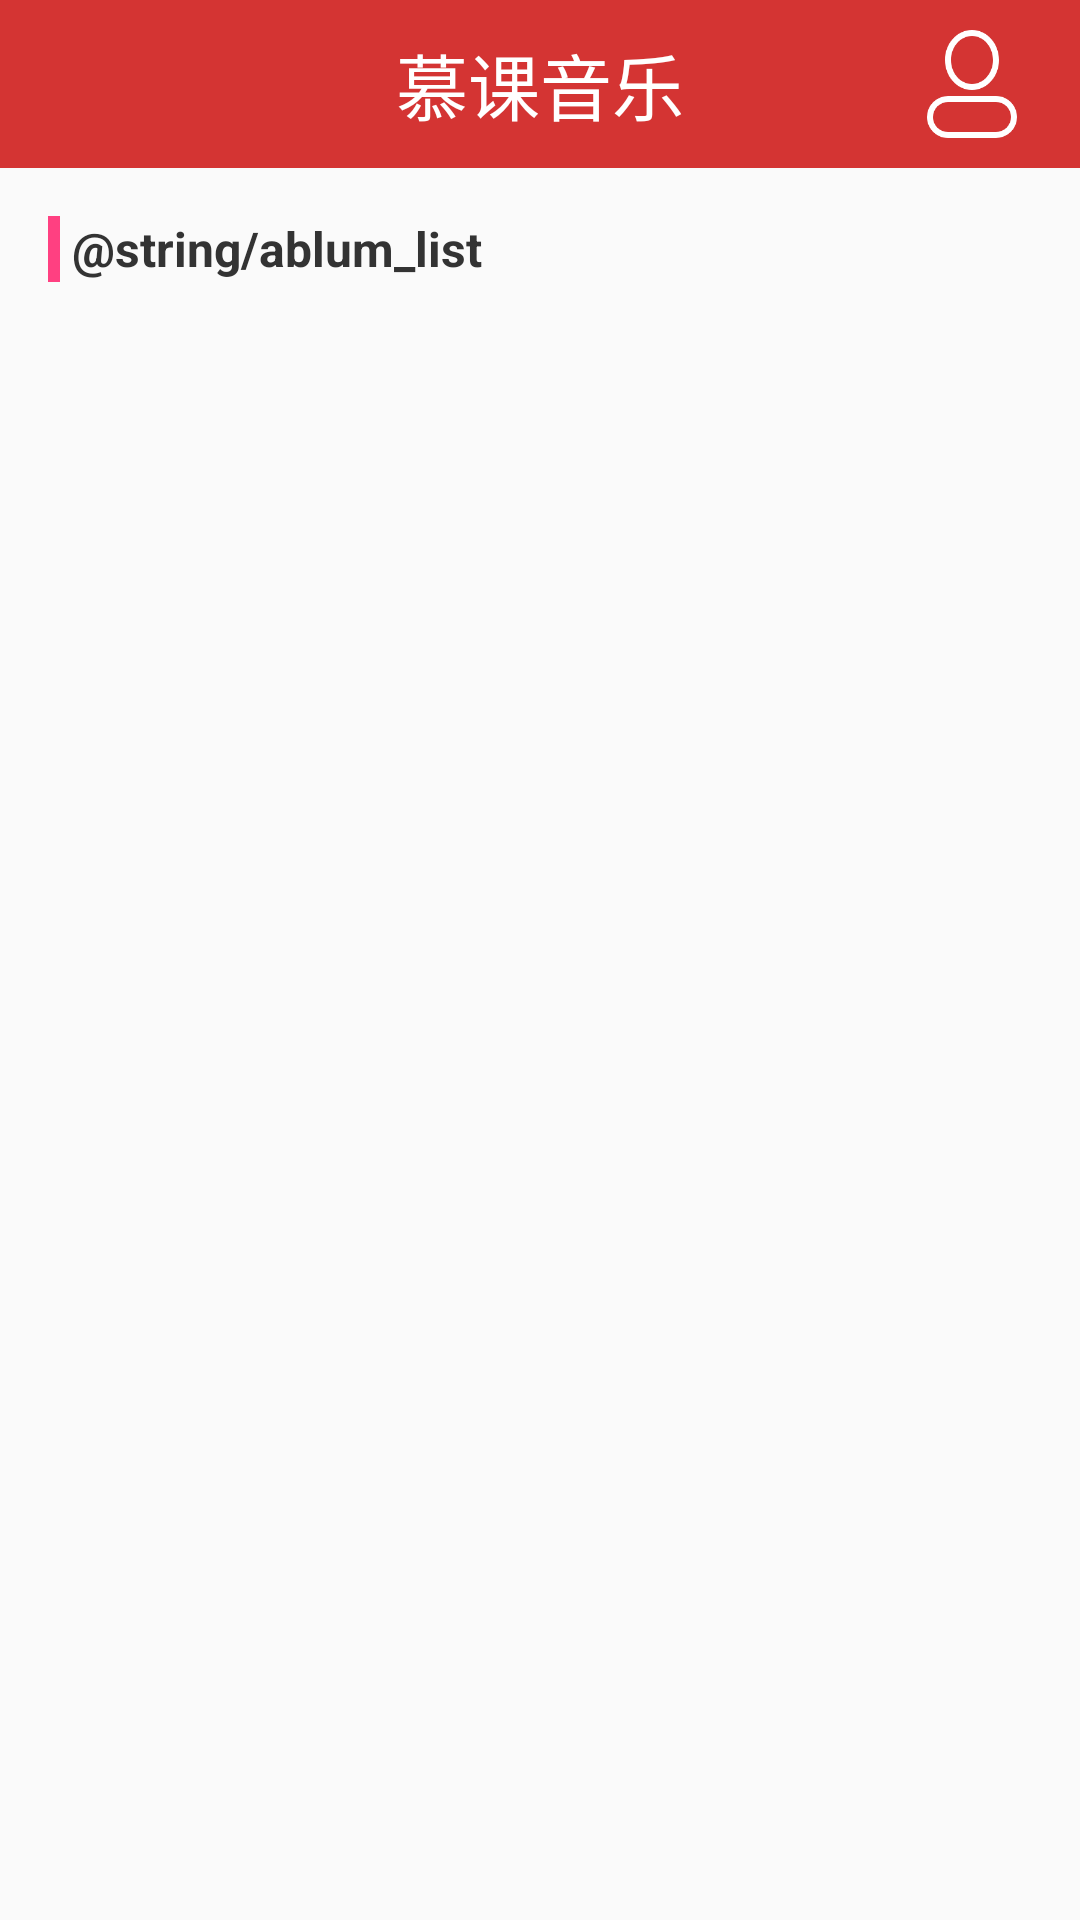

Named icons in this screenshot (1080 × 1920) and their bounding boxes, detection(x1, y1, x2, y2):
mine: detection(927, 30, 1017, 138)
